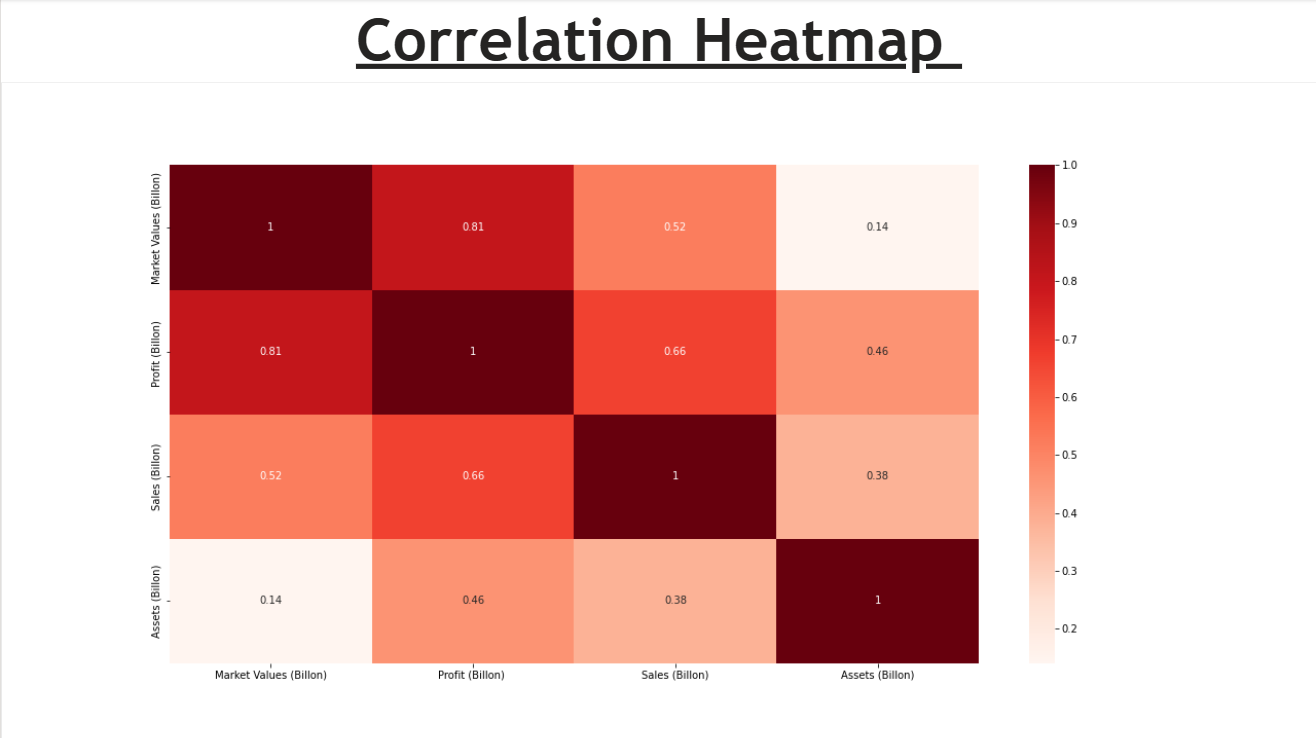

What the dashboard file says about the page in this screenshot:
{"tool":"powerbi","page":{"name":"Heatmap","canvas":[1280,720],"ordinal":0},"visuals":[{"type":"pythonVisual","title":"Correlation Heatmap ","fields":{"Values":["top_2000_companies.Market Values (Billon)","top_2000_companies.Profit (Billon) ","top_2000_companies.Sales (Billon)","top_2000_companies.Assets (Billon)"]},"box":[0,81,1280,639],"z":0},{"type":"textbox","box":[0,0,1280,81],"z":1000}]}

Visuals, with their boxes in screenshot pixels (x1, y1, x2, y2), scaled from the page's 1280x720 canvas onto the 1316x738 screenshot:
"Correlation Heatmap " pythonVisual: pyautogui.locateOnScreen(0, 83, 1315, 737)
textbox: pyautogui.locateOnScreen(0, 0, 1315, 83)
